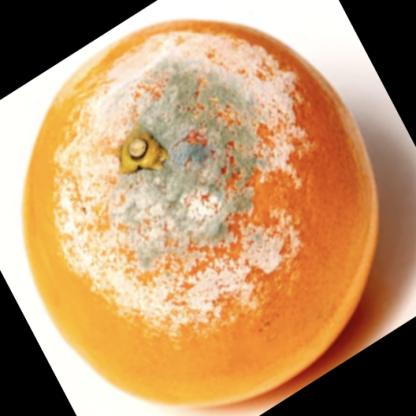rotten: (24, 17, 383, 414)
